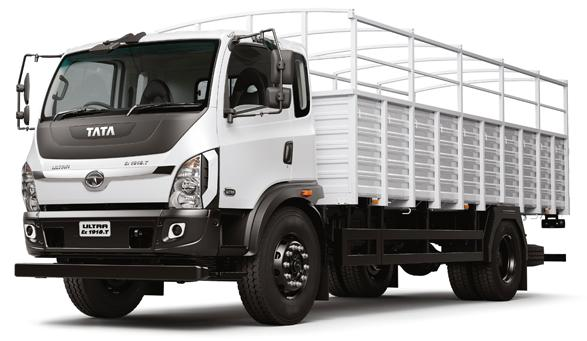truck: (14, 7, 569, 326)
